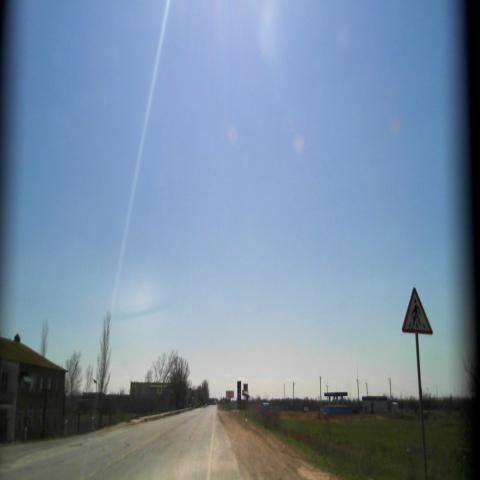1_22: (399, 287, 433, 337)
